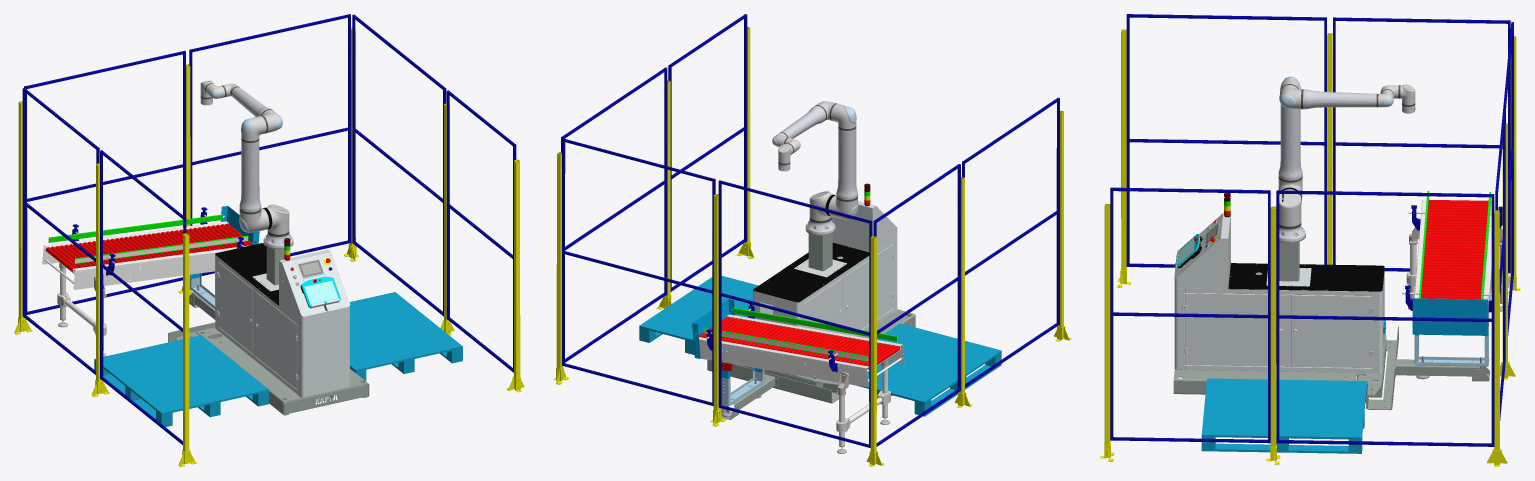
The model's file is 09-base-esteira-90-esquerda-gradil.glb.
3 views of the same model, side by side, from view 1: azimuth 30°, elevation 25°; view 2: azimuth 150°, elevation 25°; view 3: azimuth 270°, elevation 25° (orthographic). The views are drawn at different scales.
Parts seen in each view (by area): view 1: KAPTA_AR_ORIENTACAO_FINAL; view 2: KAPTA_AR_ORIENTACAO_FINAL; view 3: KAPTA_AR_ORIENTACAO_FINAL.
Part boxes in pixels (bbox=[...]): KAPTA_AR_ORIENTACAO_FINAL: bbox=[14, 14, 524, 466]; KAPTA_AR_ORIENTACAO_FINAL: bbox=[553, 14, 1071, 466]; KAPTA_AR_ORIENTACAO_FINAL: bbox=[1100, 14, 1520, 466].
Bounding box in the file's own units: 3.33 × 2.33 × 3.15.
